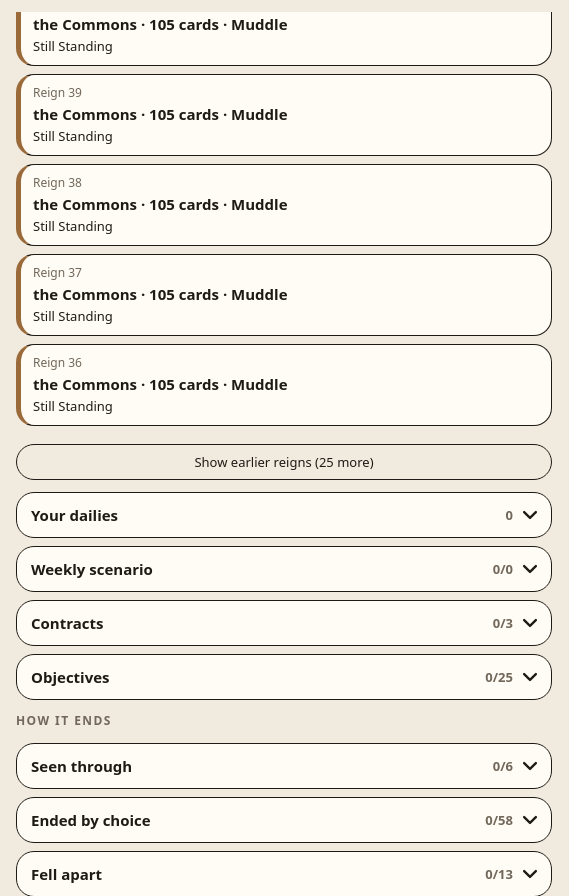
Scenario: the chronicle in the codex › lists the reigns the latest first, a page at a time, and says where the chronicle begins
(page scrolled)
What coordinates should you click on to do the following:
click the button "Show earlier reigns (25 more)"
I would click on:
 (284, 462)
Its box is [16, 444, 552, 480].
(page scrolled)
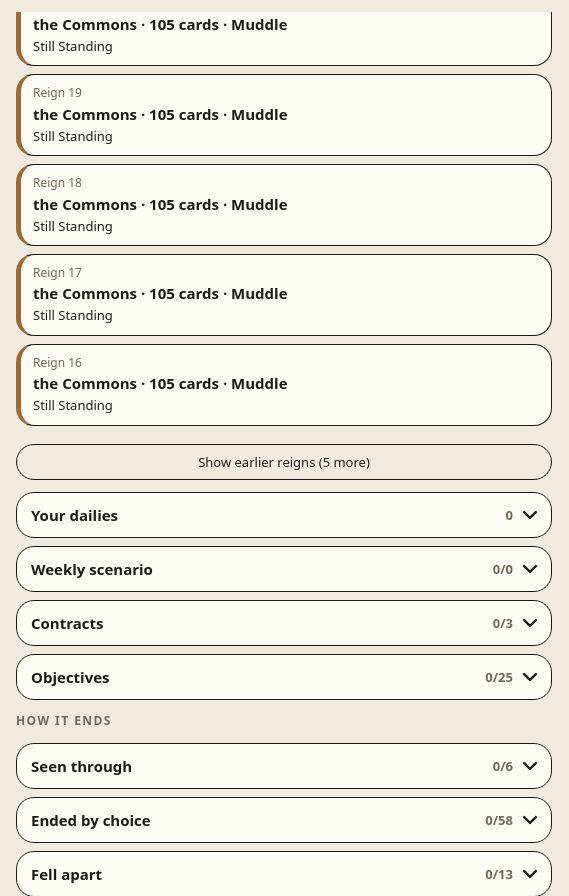
What coordinates should you click on to do the following:
click the button "Show earlier reigns (5 more)"
I would click on:
 (284, 462)
Its box is [16, 444, 552, 480].
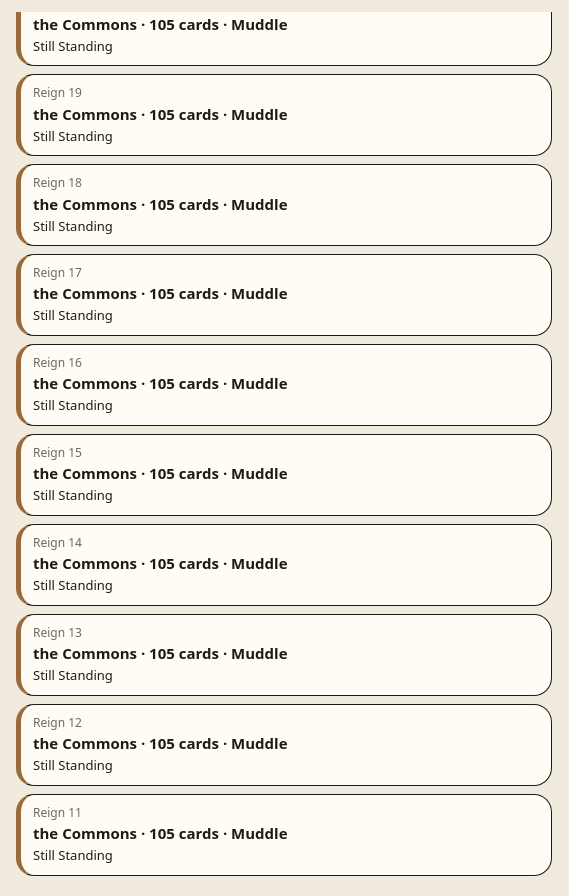
expect the button "earlier" is gone: met
